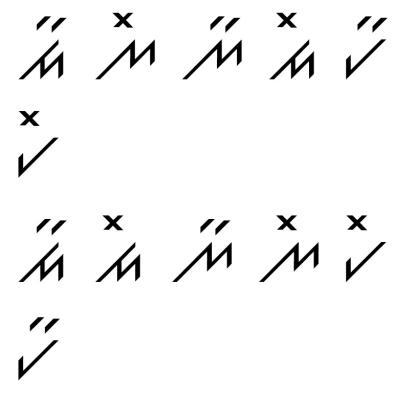dan: (11, 216, 70, 284), (16, 14, 74, 83)
do: (90, 208, 146, 284), (265, 10, 321, 82)
nan: (162, 211, 237, 287), (180, 15, 246, 85)
no: (257, 206, 322, 288), (88, 7, 158, 81)
pan: (12, 312, 72, 381), (341, 9, 392, 80)
po: (334, 212, 392, 284), (9, 109, 65, 178)
